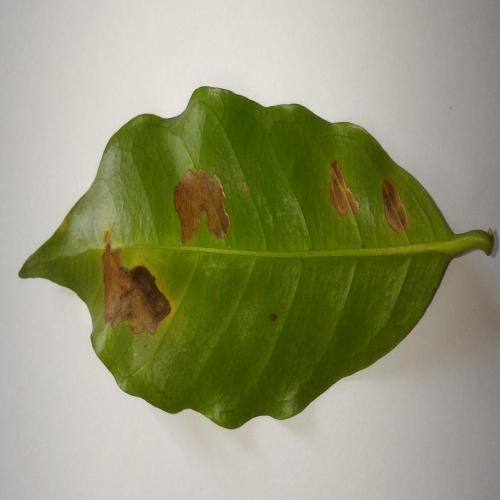leaf: (329, 159, 360, 216)
